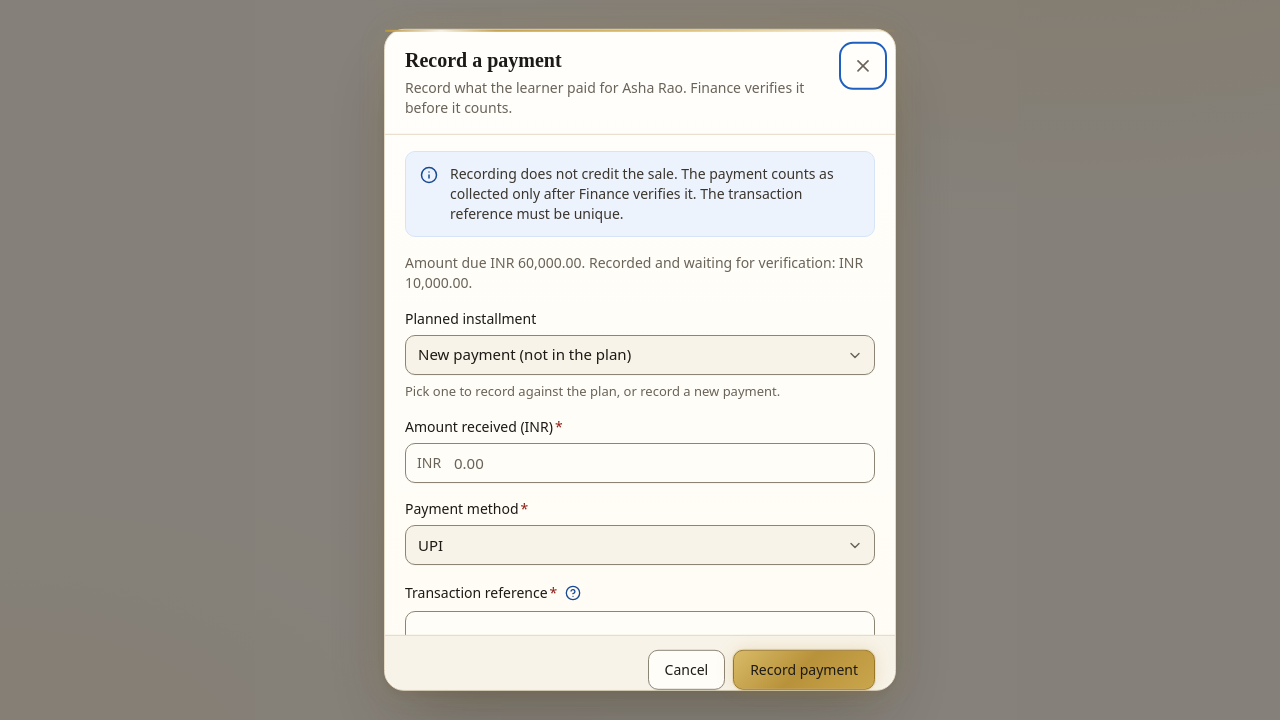
it: record payment dialog › only digits and a decimal point can be typed into the amount
The image size is (1280, 720).
In the field labelled "Amount received (INR)*": (640, 463) top-left (405, 443), bottom-right (875, 483), type "12abc.5-0e"
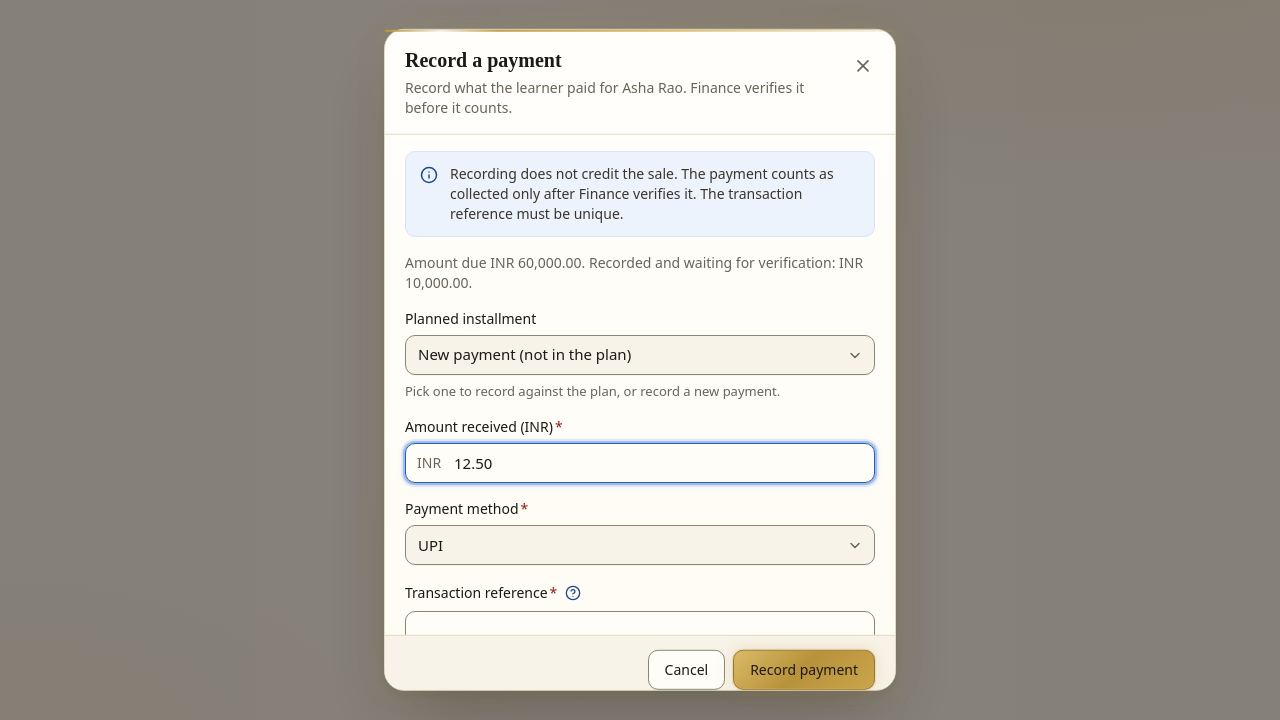
expect the field labelled "Amount received (INR)*" holds "12.50": met, box top-left (405, 443), bottom-right (875, 483)
